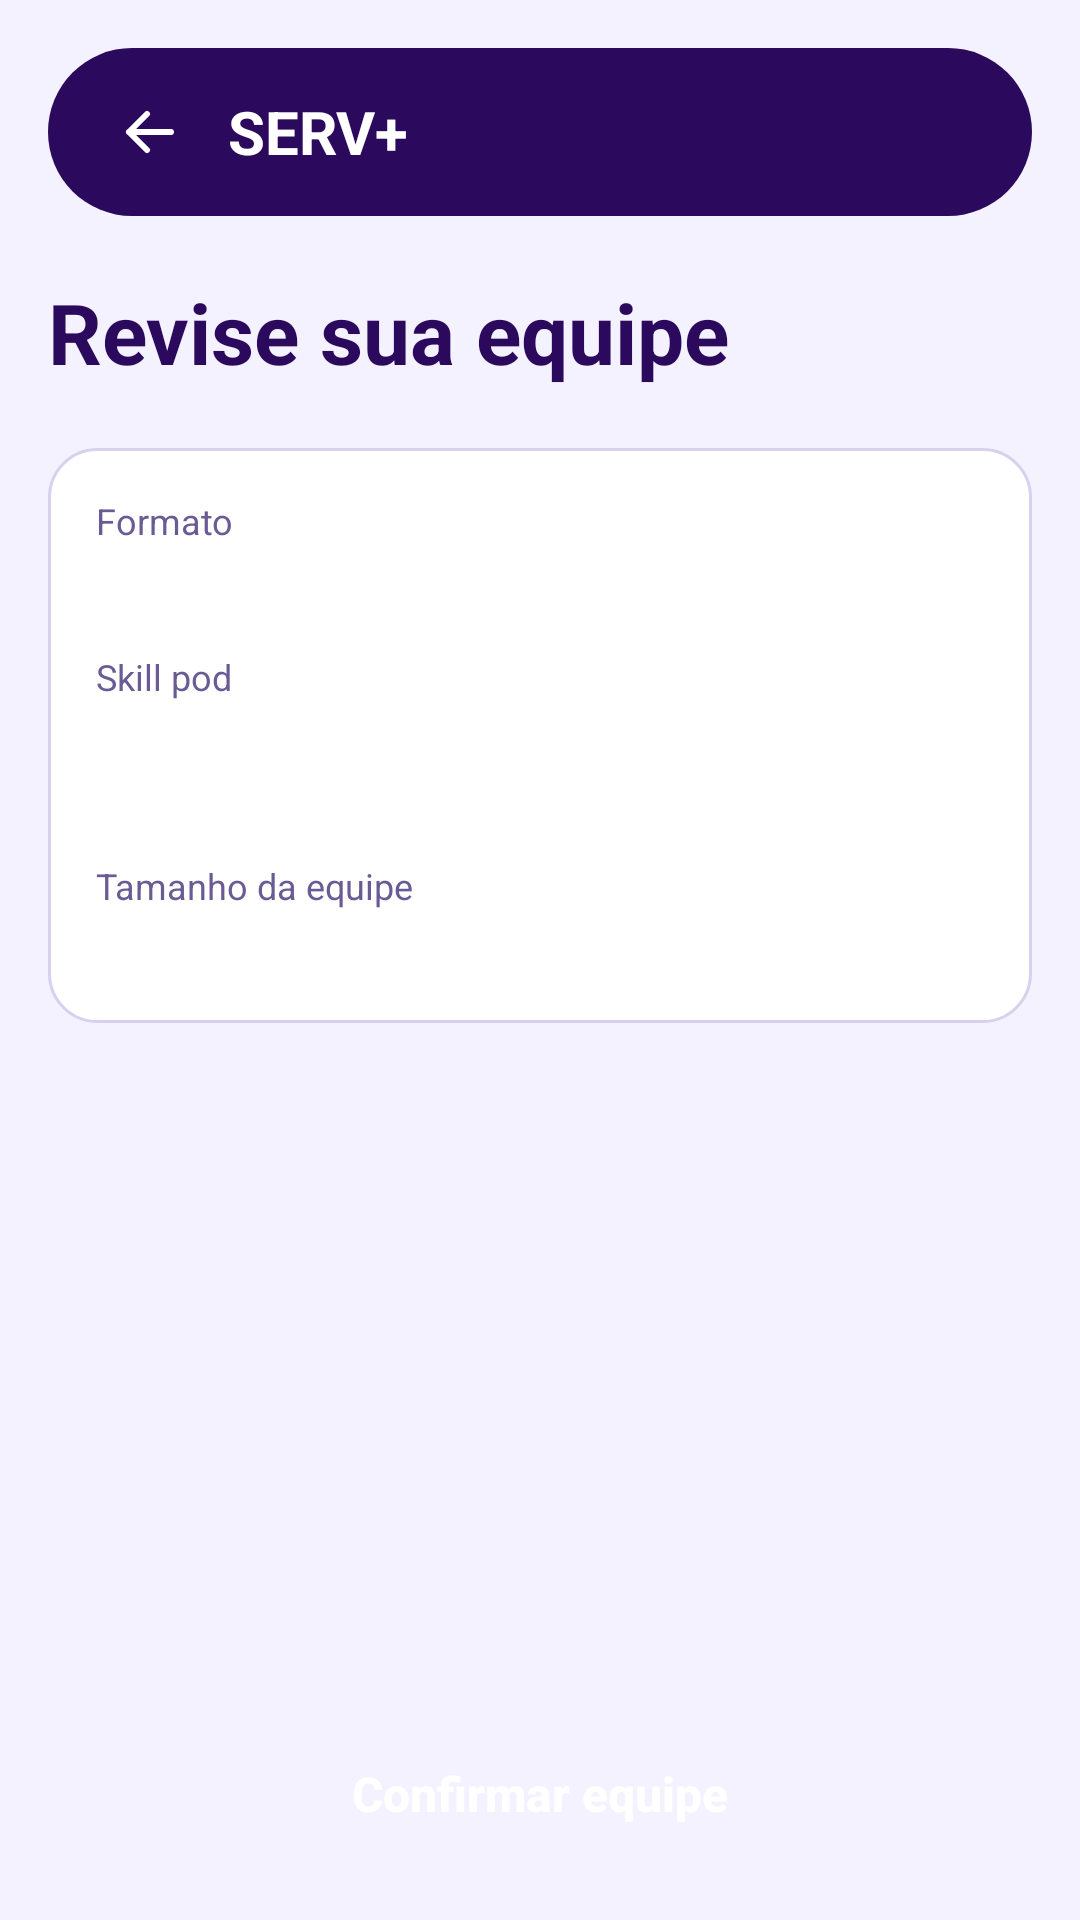

Screen size 1080x1920. Icon name, then its box in pixels as (x1, y1, x2, y2):
Voltar: (126, 111, 174, 153)
